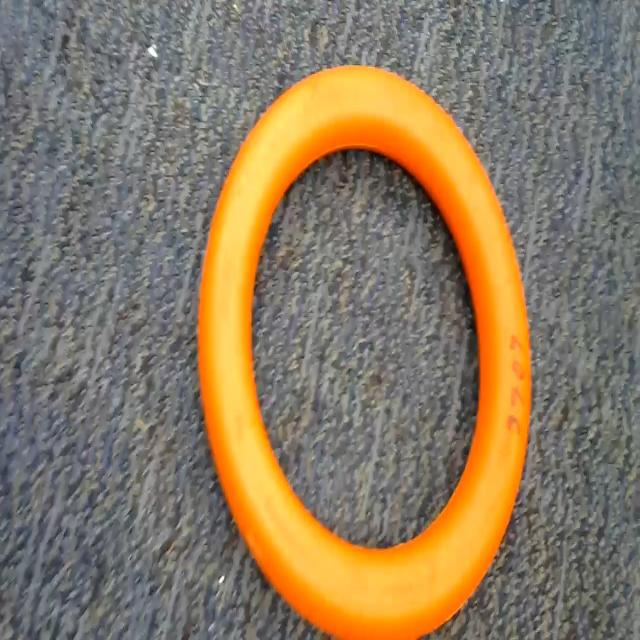note: (195, 56, 542, 640)
